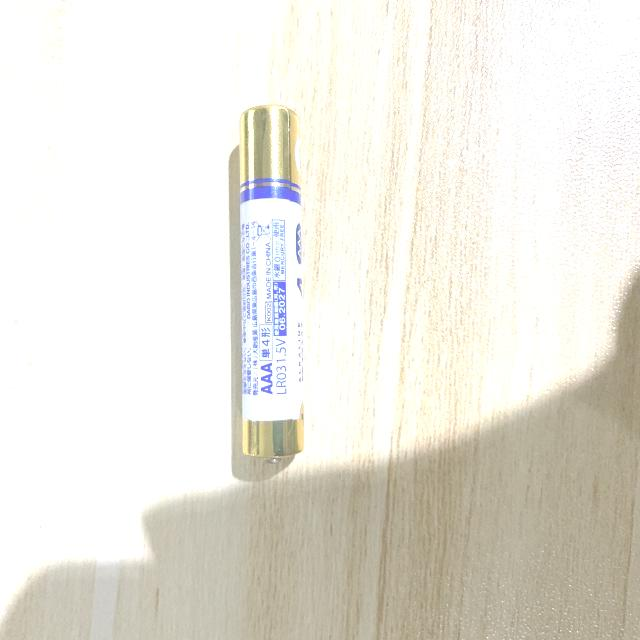AAA: (239, 105, 304, 464)
